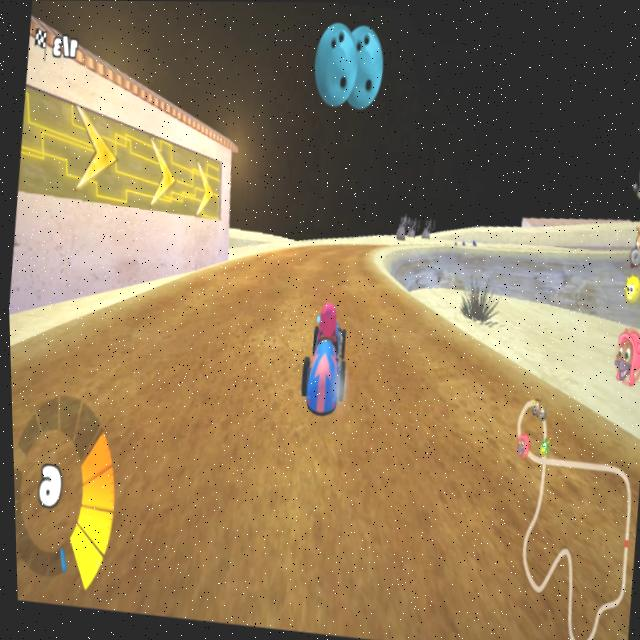off_track: (447, 201, 608, 335)
player_kart: (293, 302, 352, 413)
track: (279, 223, 383, 305)
